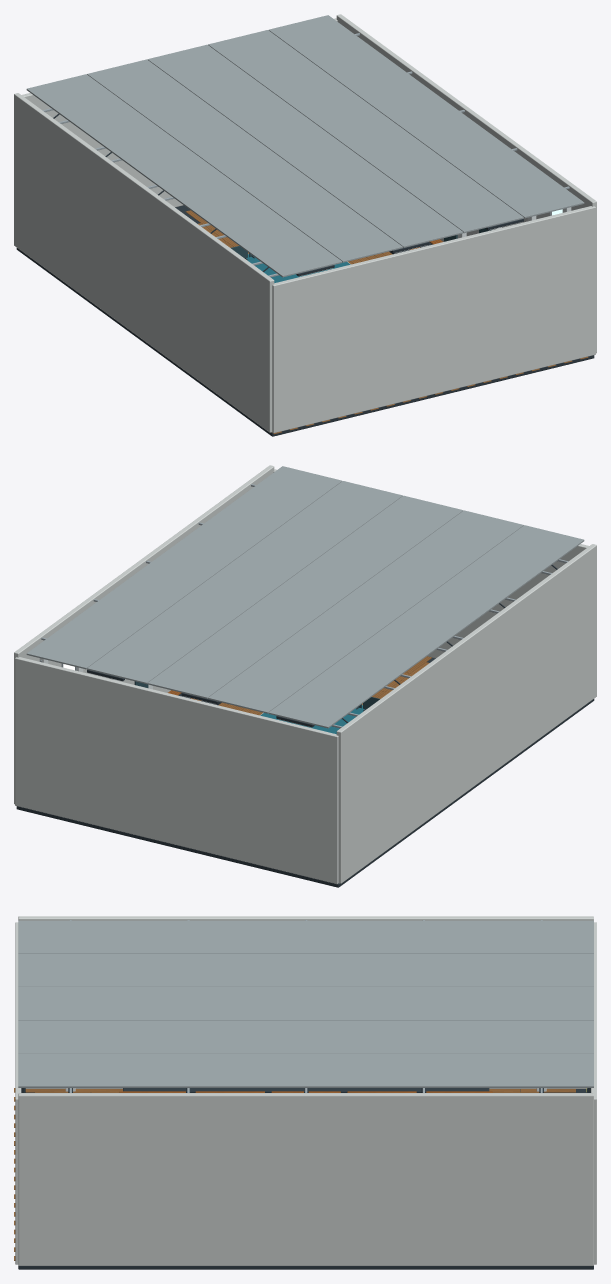
The model's file is sports-hall.glb.
The picture shows the model from 3 angles, top to bottom: view 1: azimuth 30°, elevation 25°; view 2: azimuth 150°, elevation 25°; view 3: azimuth 270°, elevation 25°; orthographic projection. The views are drawn at different scales.
Visible parts, largest first — view 1: SportsHall_Mineral plaster walls.002, SportsHall_Light gray roof panels.002, SportsHall_Graphite powder coat.004; view 2: SportsHall_Mineral plaster walls.002, SportsHall_Light gray roof panels.002, SportsHall_Graphite powder coat.004; view 3: SportsHall_Mineral plaster walls.002, SportsHall_Light gray roof panels.002, SportsHall_Graphite powder coat.004, SportsHall_Natural maple grain.004.
Part boxes in pixels (bbox=[...]): SportsHall_Mineral plaster walls.002: bbox=[14, 14, 596, 433]; SportsHall_Light gray roof panels.002: bbox=[26, 15, 584, 277]; SportsHall_Graphite powder coat.004: bbox=[16, 113, 594, 436]; SportsHall_Mineral plaster walls.002: bbox=[14, 465, 596, 884]; SportsHall_Light gray roof panels.002: bbox=[26, 466, 584, 728]; SportsHall_Graphite powder coat.004: bbox=[16, 564, 594, 887]; SportsHall_Mineral plaster walls.002: bbox=[15, 916, 596, 1265]; SportsHall_Light gray roof panels.002: bbox=[18, 920, 593, 1087]; SportsHall_Graphite powder coat.004: bbox=[18, 1088, 593, 1269]; SportsHall_Natural maple grain.004: bbox=[119, 1091, 492, 1092].
Size of the model in its own units: 16.24 by 7.52 by 22.28.
Materials: 15 (6 with a texture image).
